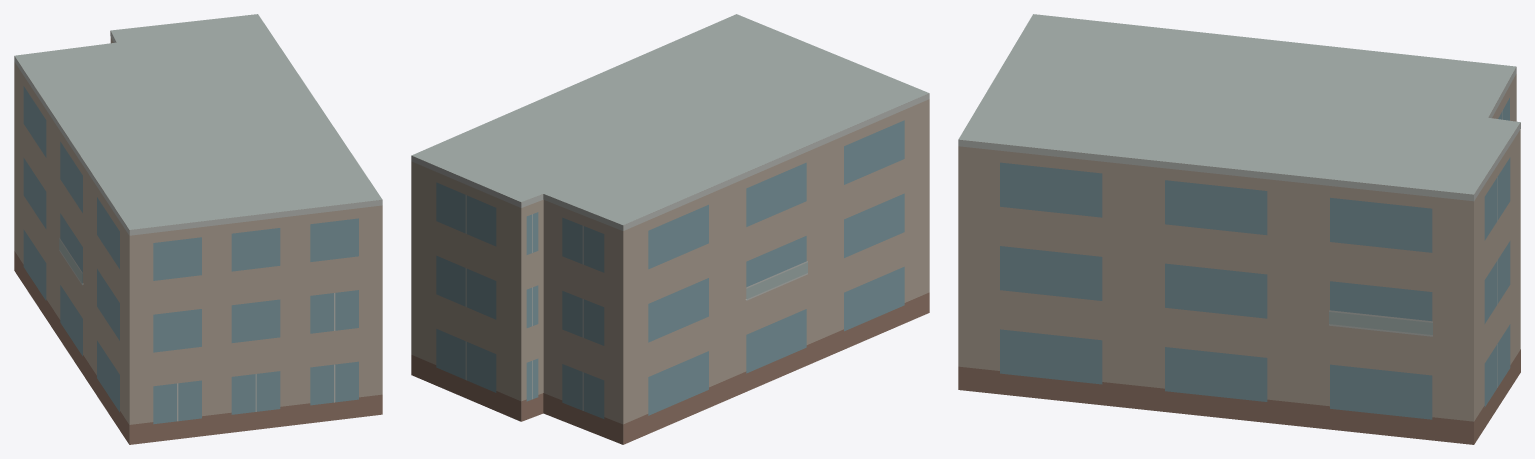
File: survey-upis-32513442.glb
The picture shows the model from 3 angles, left to right: view 1: azimuth 30°, elevation 25°; view 2: azimuth 150°, elevation 25°; view 3: azimuth 270°, elevation 25°; orthographic projection. The views are drawn at different scales.
Visible parts, largest first — view 1: survey-upis-32513442.tmp; view 2: survey-upis-32513442.tmp; view 3: survey-upis-32513442.tmp.
Part boxes in pixels (x1,y1,x2,y2): survey-upis-32513442.tmp: (14, 14, 382, 444); survey-upis-32513442.tmp: (411, 14, 929, 444); survey-upis-32513442.tmp: (958, 14, 1520, 444).
Size of the model in its own units: 14.17 by 9.15 by 18.65.
